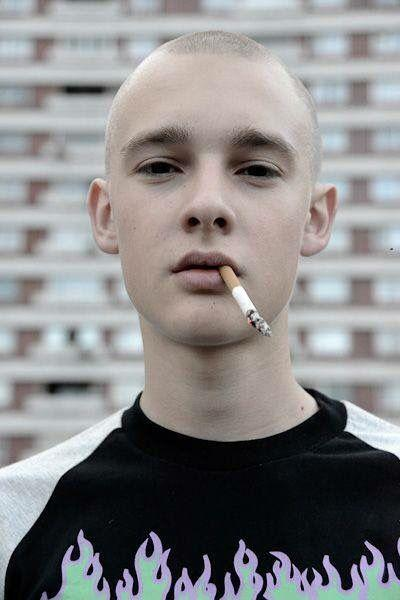cigarette: (219, 265, 271, 338)
